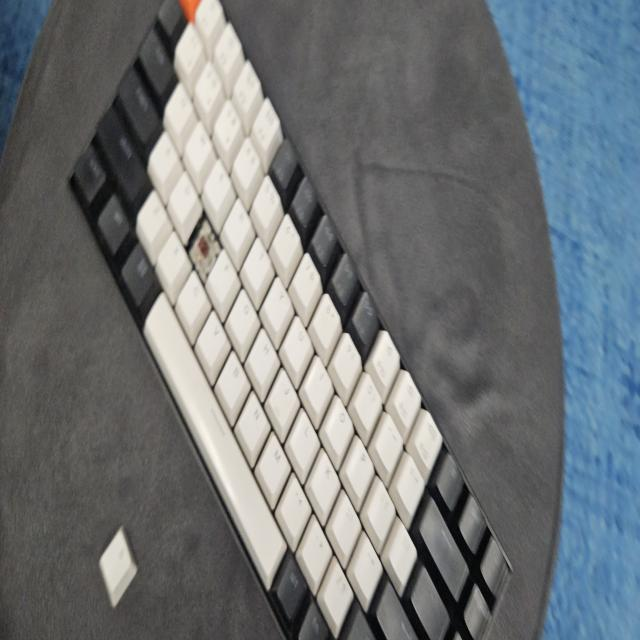C: (195, 224, 214, 272)
